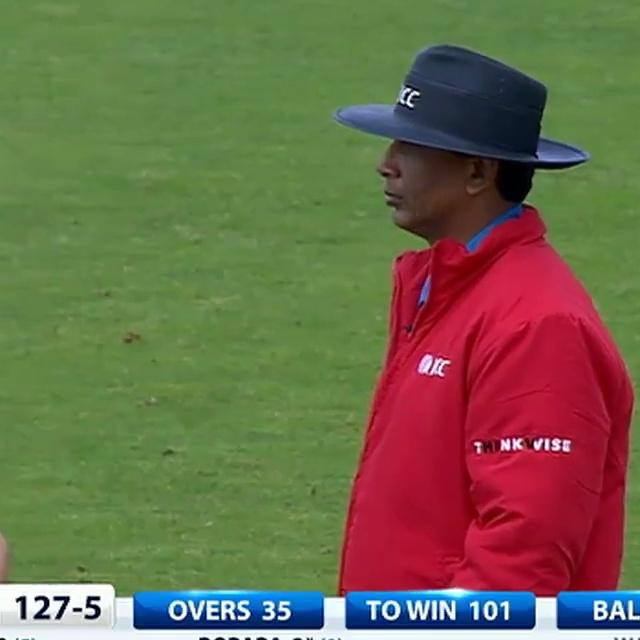umpire: (274, 11, 640, 593)
